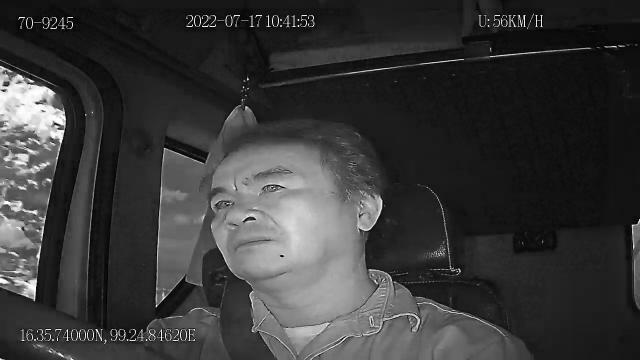SafeDriving: (254, 172, 294, 202), (206, 189, 241, 216)
Seatbelt: (218, 276, 280, 360)
